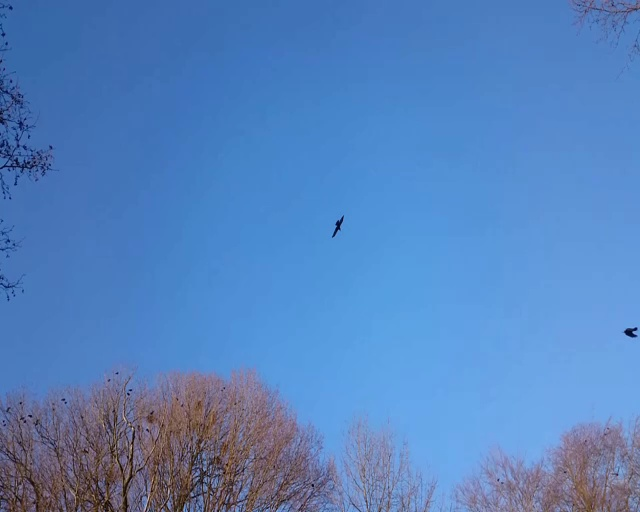BIRD: (332, 214, 345, 237)
